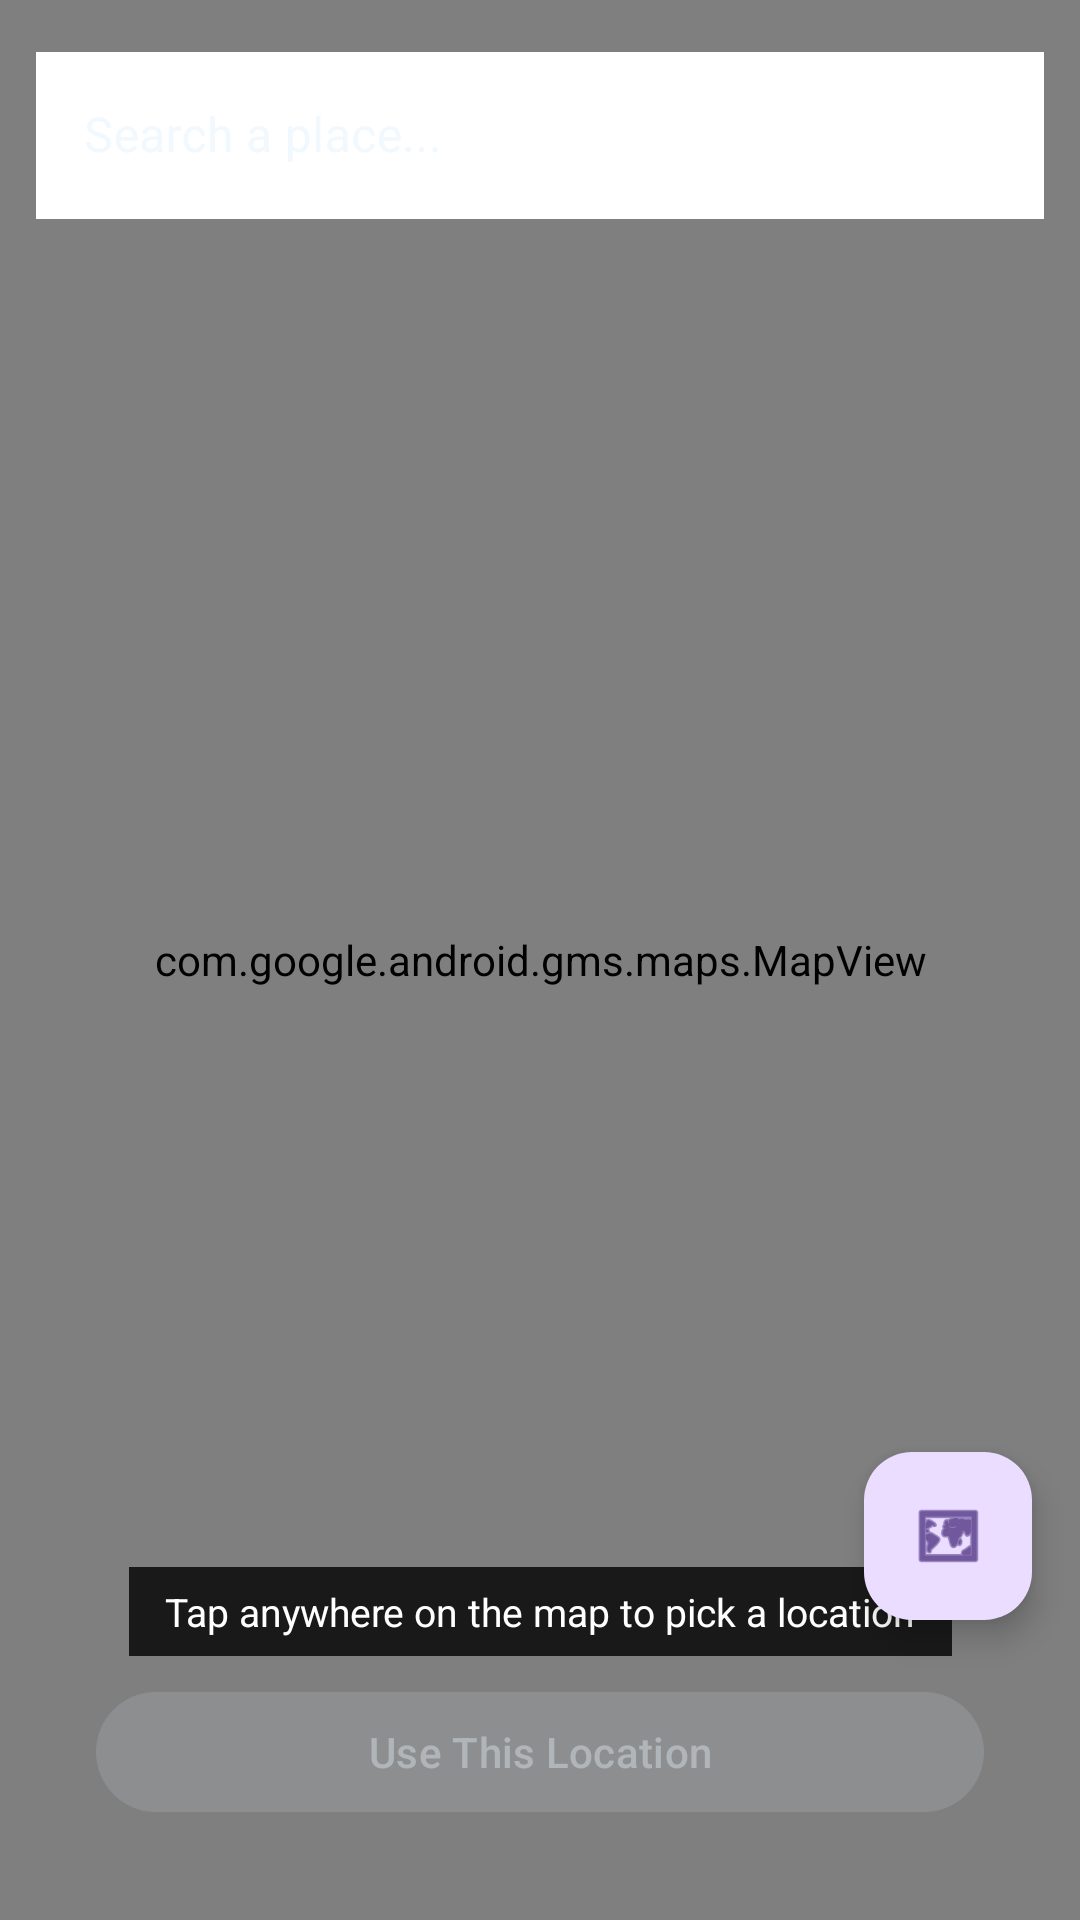

Where icons sit on this 1080×1920 app screen, as rect(x1, y1, x2, y2):
Toggle satellite view: rect(864, 1452, 1032, 1620)
